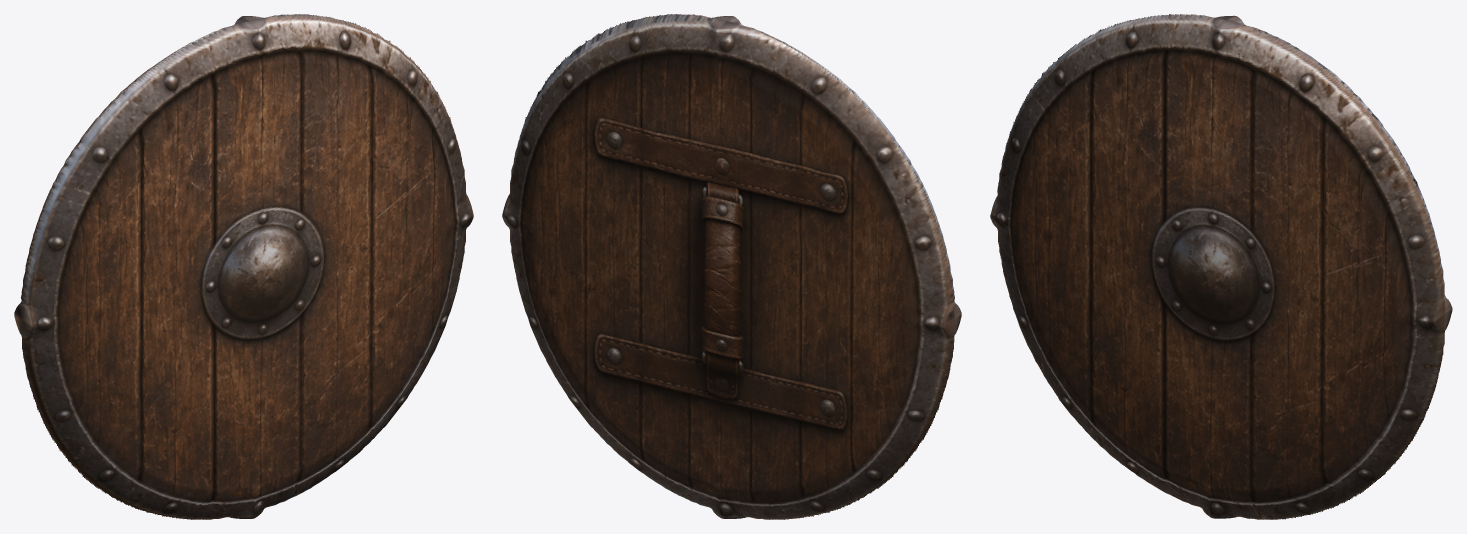
The model's file is schild.glb.
3 renders of one model, left to right at view 1: azimuth 30°, elevation 25°; view 2: azimuth 150°, elevation 25°; view 3: azimuth 330°, elevation 25°, orthographic.
Parts seen in each view (by area): view 1: schild; view 2: schild; view 3: schild.
Boxes of the visible parts, x1,y1,x2,y2 form: schild: (14,14,473,519); schild: (502,14,961,519); schild: (990,14,1452,519).
Size of the model in its own units: 0.6618 by 0.6983 by 0.07.
Materials: 1 (1 with a texture image).
